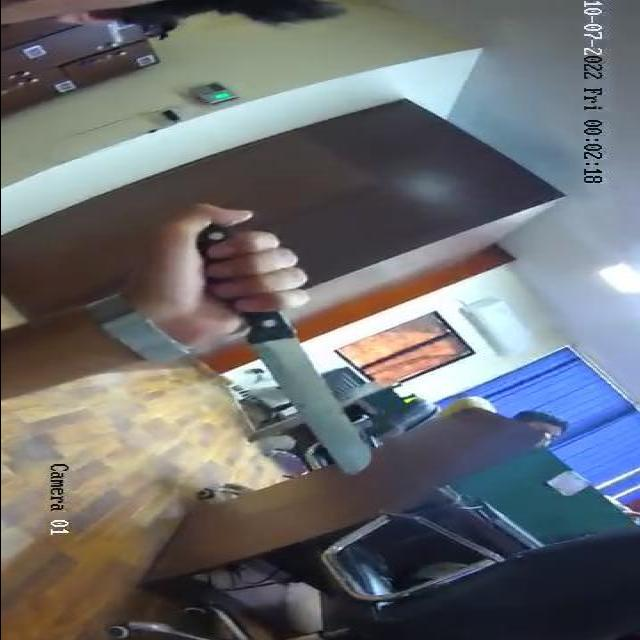Sharp-Object: (178, 201, 380, 476)
